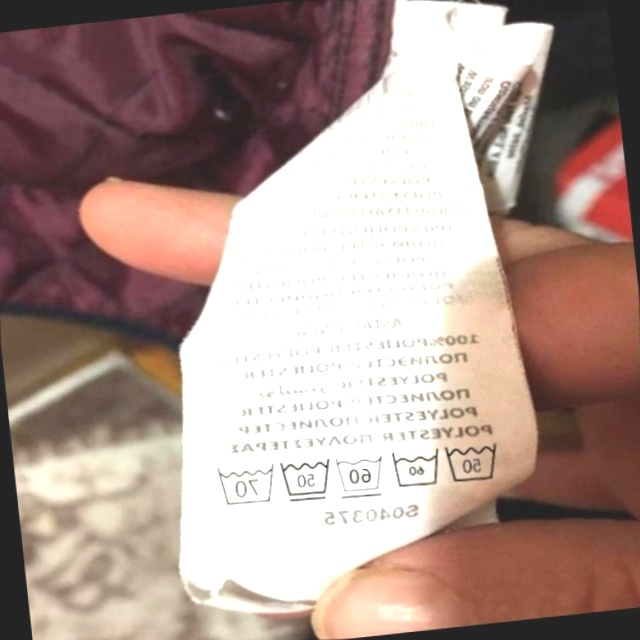50C: (437, 430, 508, 492), (272, 450, 338, 510)
60C: (327, 446, 390, 504), (383, 440, 446, 497)
70C: (207, 456, 280, 513)
